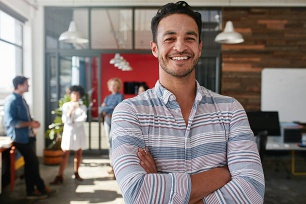male: (149, 5, 207, 76)
